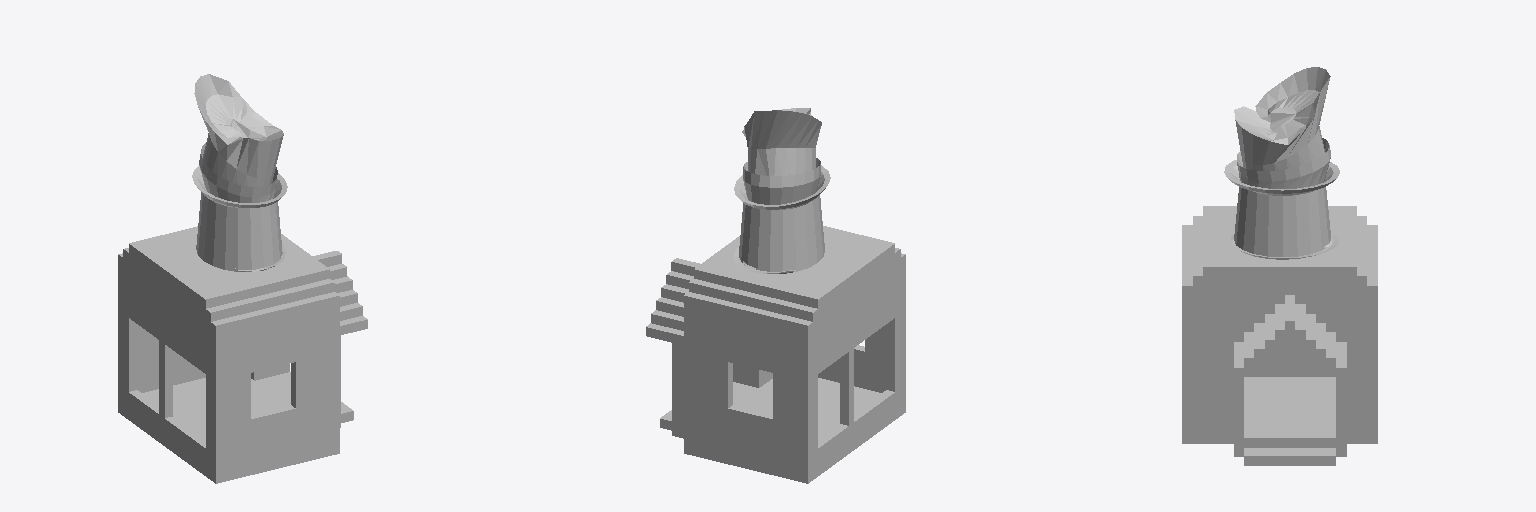
Rendered from Chapeau de Dingo.obj.
The picture shows the model from 3 angles: view 1: azimuth 30°, elevation 25°; view 2: azimuth 150°, elevation 25°; view 3: azimuth 270°, elevation 25°; orthographic projection.
Visible parts, largest first — view 1: maison, Cylinder_Cylinder.004; view 2: maison, Cylinder_Cylinder.004; view 3: maison, Cylinder_Cylinder.004.
Boxes of the visible parts, x1,y1,x2,y2 form: maison: [118, 226, 367, 483]; Cylinder_Cylinder.004: [192, 74, 287, 271]; maison: [646, 226, 905, 483]; Cylinder_Cylinder.004: [733, 108, 830, 273]; maison: [1182, 206, 1377, 465]; Cylinder_Cylinder.004: [1224, 67, 1339, 259].
Bounding box in the file's own units: 2 × 3.67 × 1.9.